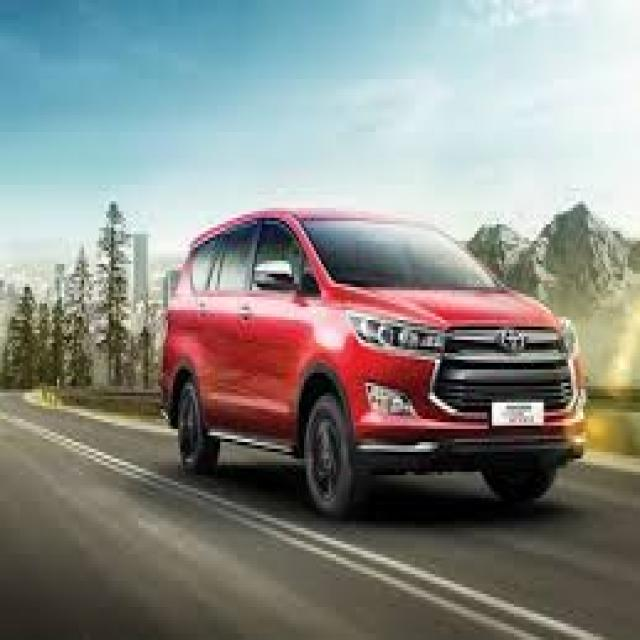light_vehicle: (163, 205, 589, 515)
